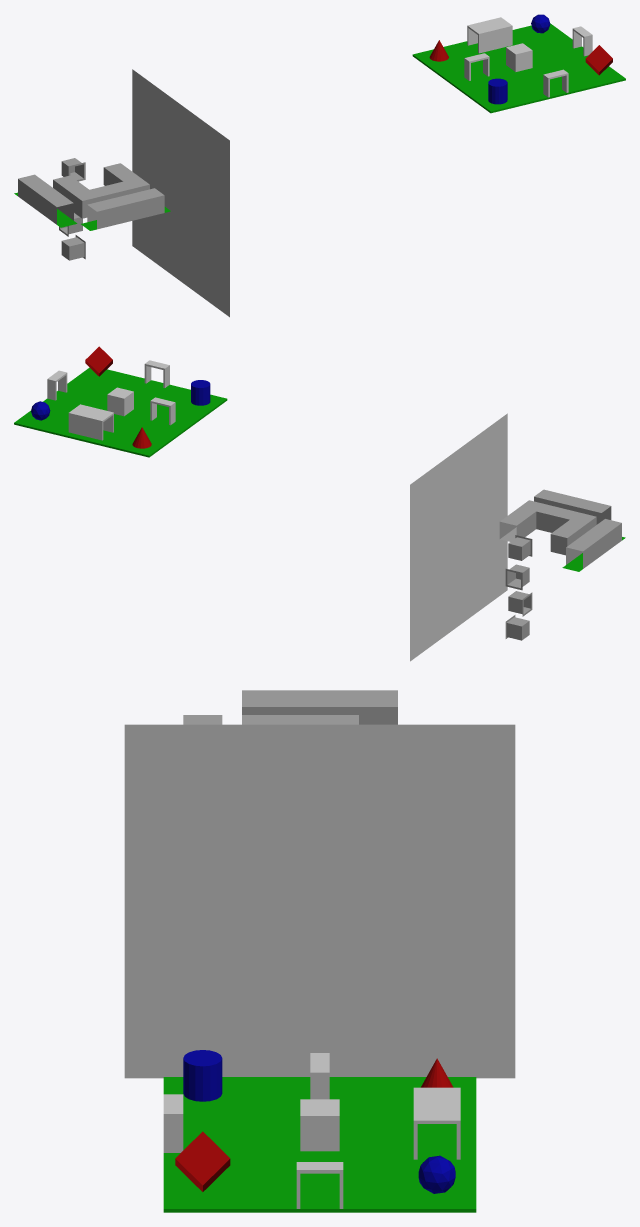
Rendered from ray_tracer_scene.obj.
3 renders of one model, top to bottom at view 1: azimuth 30°, elevation 25°; view 2: azimuth 150°, elevation 25°; view 3: azimuth 270°, elevation 25°, orthographic. The views are drawn at different scales.
Parts seen in each view (by area): view 1: Plane, Cube.003_Cube.013, tunnel_4.029_tunnel_4.000, tunnel_4.006, tunnel_4.001, Cube.000_Cube.020, tunnel_4.004, tunnel_4.003, Cube.004_Cube.016, tunnel_4.005, tunnel_4.002, Cube_Cube.002 (+4 smaller); view 2: Plane, Cube.003_Cube.013, tunnel_4.029_tunnel_4.000, tunnel_4.039_tunnel_4.069, Cube.002_Cube.022, tunnel_4.001, tunnel_4.004, tunnel_4.003, Cube.004_Cube.016, Cube_Cube.001_Cube_Cube.006, Cube_Cube.004_Cube_Cube.005, Cube_Cube.000 (+3 smaller); view 3: Plane, Cube.003_Cube.013, tunnel_4.003, Cube.004_Cube.016, Cylinder, Cube.005_Cube.015, Cube.001_Cube.021, tunnel_4.002, tunnel_4.029_tunnel_4.000, Icosphere_Icosphere.001, Cube.014_Cube.012.
Part boxes in pixels (<box>): Plane: <box>132,69,229,317</box>; Cube.003_Cube.013: <box>412,23,625,113</box>; tunnel_4.029_tunnel_4.000: <box>53,163,149,200</box>; tunnel_4.006: <box>97,195,164,229</box>; tunnel_4.001: <box>18,179,56,224</box>; Cube.000_Cube.020: <box>478,26,512,53</box>; tunnel_4.004: <box>87,188,163,211</box>; tunnel_4.003: <box>18,174,73,206</box>; Cube.004_Cube.016: <box>506,43,532,71</box>; tunnel_4.005: <box>82,184,149,222</box>; tunnel_4.002: <box>53,180,82,220</box>; Cube_Cube.002: <box>61,235,85,260</box>; Plane: <box>410,413,507,661</box>; Cube.003_Cube.013: <box>14,367,227,457</box>; tunnel_4.029_tunnel_4.000: <box>500,500,596,537</box>; tunnel_4.039_tunnel_4.069: <box>516,511,569,537</box>; Cube.002_Cube.022: <box>68,413,103,440</box>; tunnel_4.001: <box>583,523,621,568</box>; tunnel_4.004: <box>534,489,610,512</box>; tunnel_4.003: <box>566,519,621,551</box>; Cube.004_Cube.016: <box>107,387,133,416</box>; Cube_Cube.001_Cube_Cube.006: <box>505,564,529,590</box>; Cube_Cube.004_Cube_Cube.005: <box>508,535,532,560</box>; Cube_Cube.000: <box>508,591,532,616</box>; Plane: <box>124,724,515,1078</box>; Cube.003_Cube.013: <box>163,1077,476,1212</box>; tunnel_4.003: <box>242,690,397,706</box>; Cube.004_Cube.016: <box>300,1099,339,1151</box>; Cylinder: <box>183,1050,222,1101</box>; Cube.005_Cube.015: <box>175,1131,230,1191</box>; Cube.001_Cube.021: <box>413,1087,460,1123</box>; tunnel_4.002: <box>242,707,397,724</box>; tunnel_4.029_tunnel_4.000: <box>242,715,358,724</box>; Icosphere_Icosphere.001: <box>418,1155,455,1193</box>; Cube.014_Cube.012: <box>163,1114,183,1152</box>.
Size of the model in its own units: 65 by 20 by 20.
